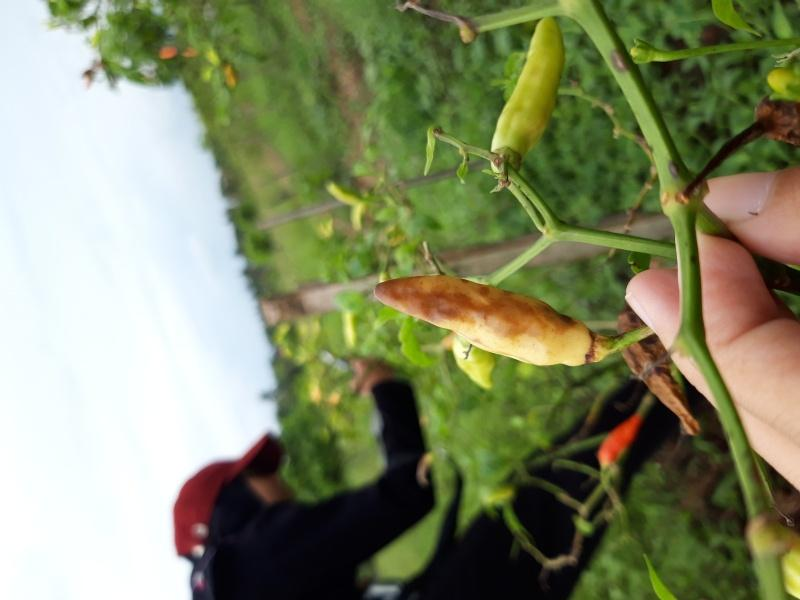antraknosa: (617, 305, 700, 435)
cabai_normal: (494, 14, 563, 154)
lalat_buah: (376, 277, 595, 366)
